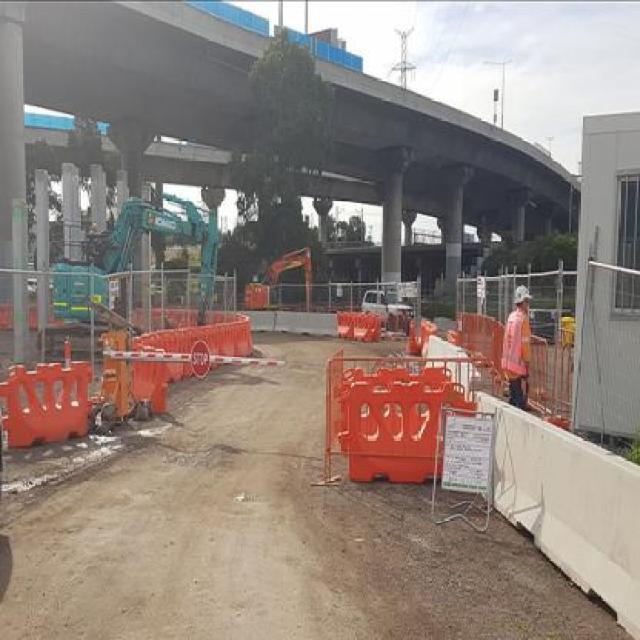fallen_object: (282, 329, 507, 497), (2, 335, 126, 465), (132, 325, 227, 411), (203, 292, 270, 379), (322, 285, 395, 343)
